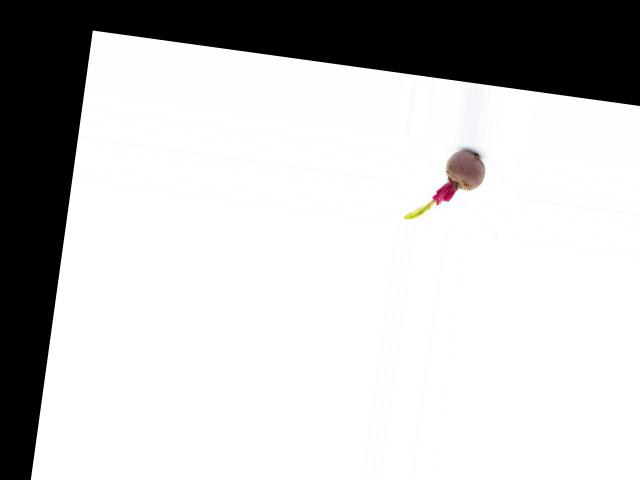beet: (405, 143, 488, 228)
